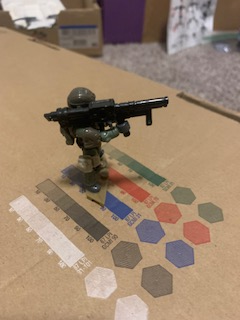soldier: (43, 84, 172, 195)
